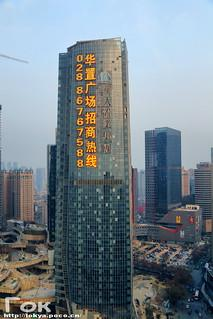building: (50, 35, 134, 317)
